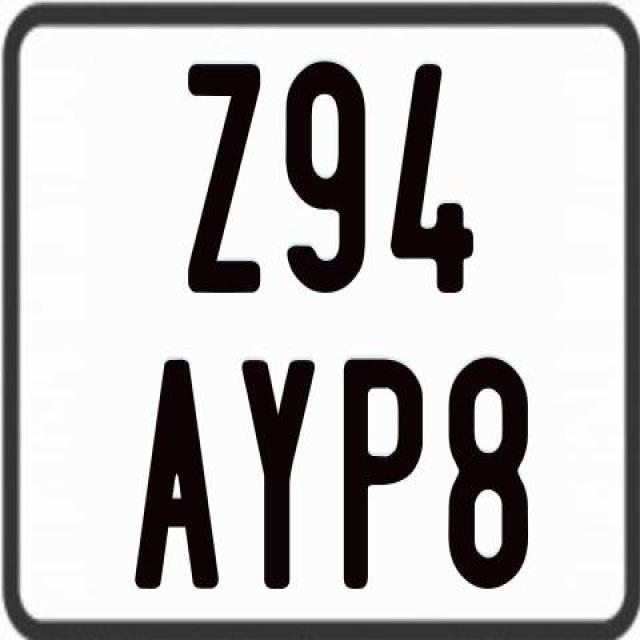4: (389, 59, 476, 291)
8: (444, 357, 526, 596)
9: (282, 61, 364, 294)
A: (132, 357, 223, 592)
P: (340, 356, 423, 594)
Y: (238, 360, 312, 589)
Z: (186, 64, 262, 302)
